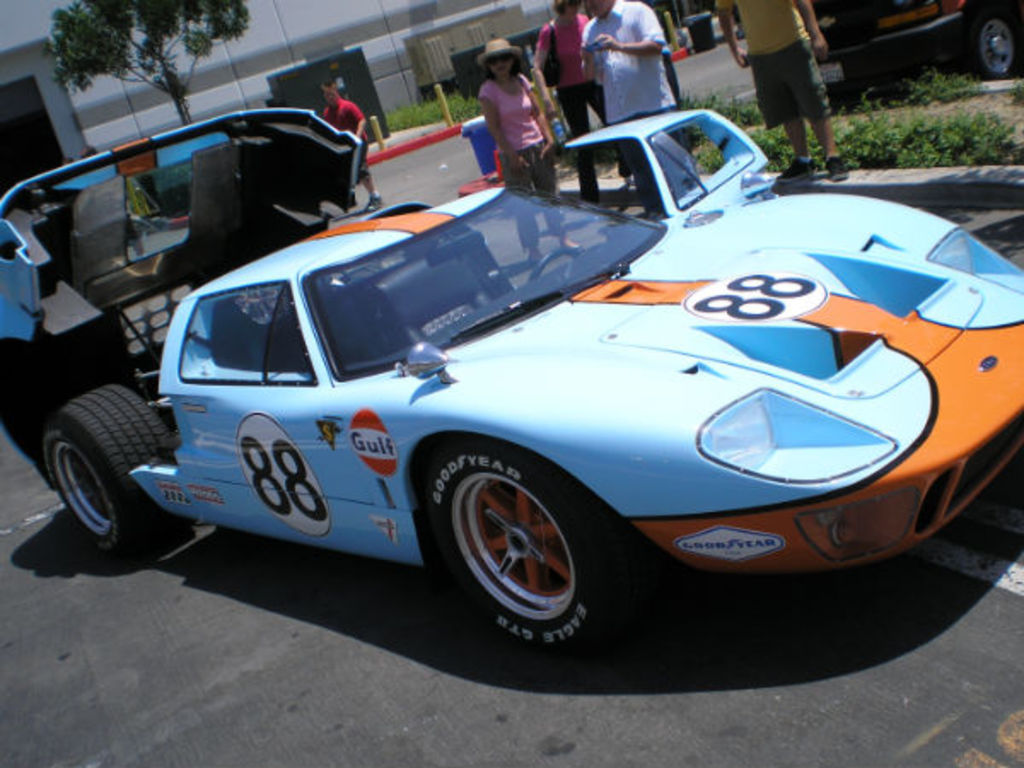Person: (716, 0, 856, 180), (530, 0, 611, 136), (321, 84, 387, 210)
